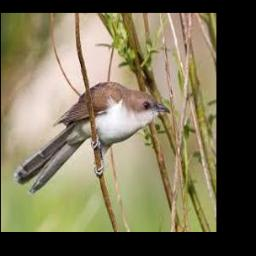Cuckoo: (13, 81, 170, 194)
